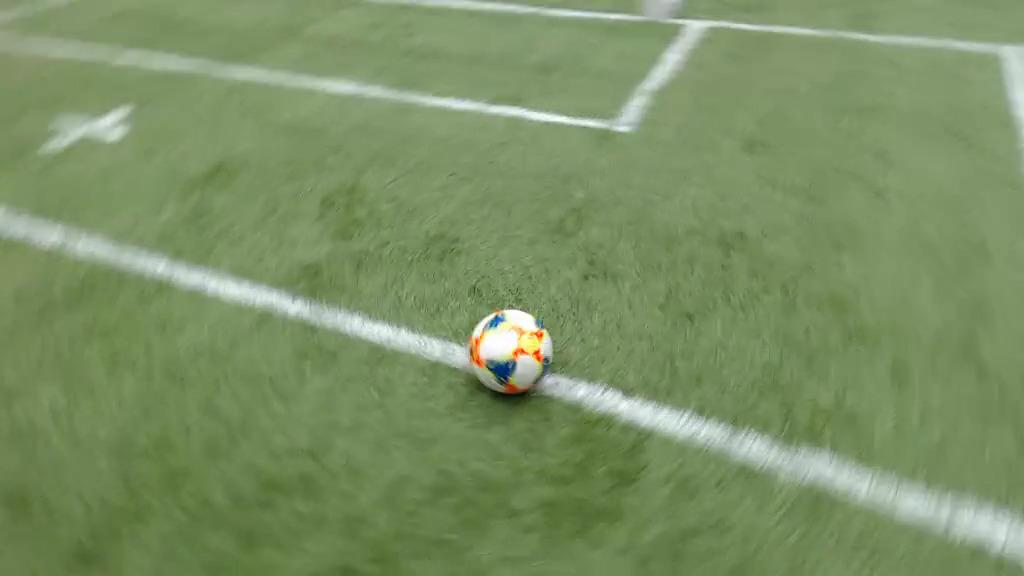ball: (466, 306, 551, 403)
